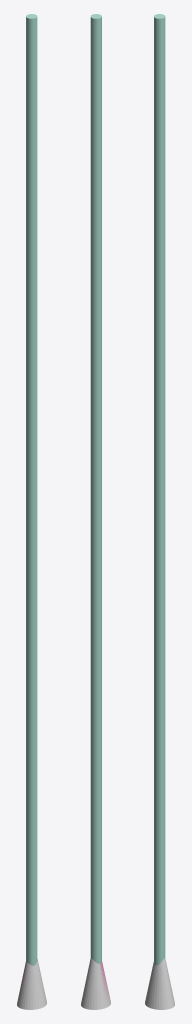
Rendered from light-string.glb.
3 renders of one model, left to right at view 1: azimuth 30°, elevation 25°; view 2: azimuth 210°, elevation 25°; view 3: azimuth 330°, elevation 25°, orthographic.
Visible parts, largest first — view 1: string, handle; view 2: string, handle; view 3: string, handle.
Boxes of the visible parts, x1,y1,x2,y2 form: string: [26, 14, 37, 965]; handle: [17, 958, 46, 1009]; string: [90, 14, 101, 963]; handle: [81, 958, 110, 1009]; string: [154, 14, 165, 965]; handle: [145, 958, 174, 1009].
Bounding box in the file's own units: 0.1648 × 5.73 × 0.144.
